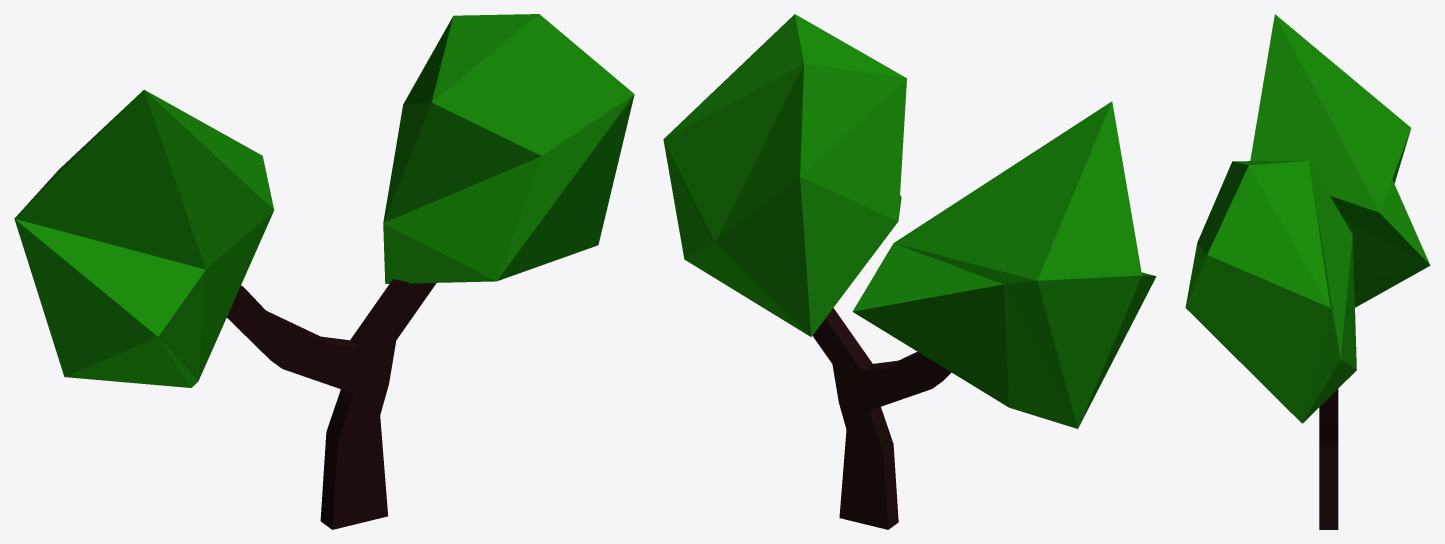
File: tree9.FBX
The picture shows the model from 3 angles, left to right: view 1: azimuth 30°, elevation 25°; view 2: azimuth 150°, elevation 25°; view 3: azimuth 270°, elevation 25°; orthographic projection. The views are drawn at different scales.
Visible parts, largest first — view 1: Tree9; view 2: Tree9; view 3: Tree9.
Boxes of the visible parts, x1=… form: Tree9: x1=14, y1=14, x2=634, y2=529; Tree9: x1=663, y1=14, x2=1156, y2=529; Tree9: x1=1185, y1=14, x2=1430, y2=529.
Size of the model in its own units: 182 by 160 by 86.43.
